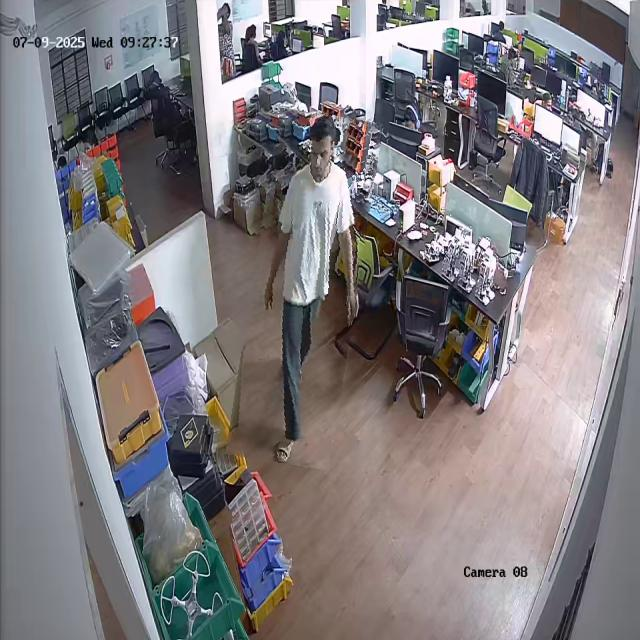person: (239, 110, 370, 467)
